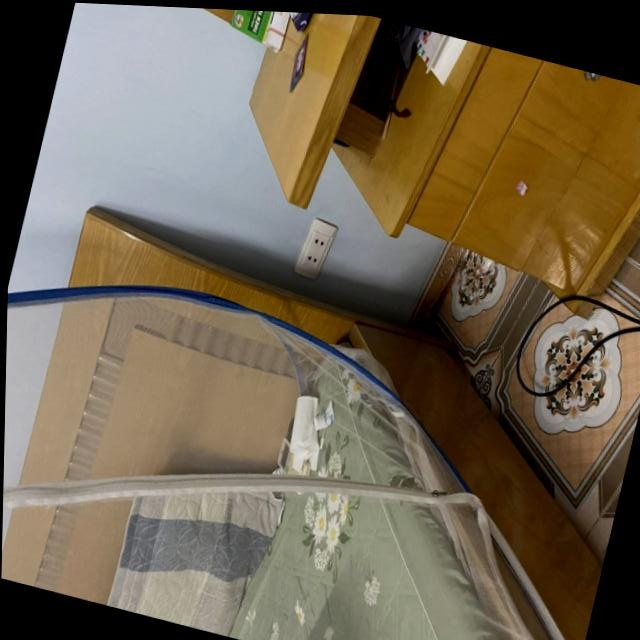outlet: (291, 216, 339, 285)
